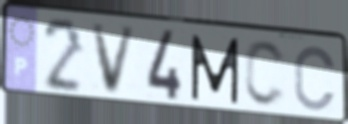2: (40, 15, 89, 95)
4: (144, 26, 185, 104)
C: (242, 38, 288, 110), (292, 43, 338, 114)
M: (189, 32, 242, 106)
V: (89, 23, 140, 98)
